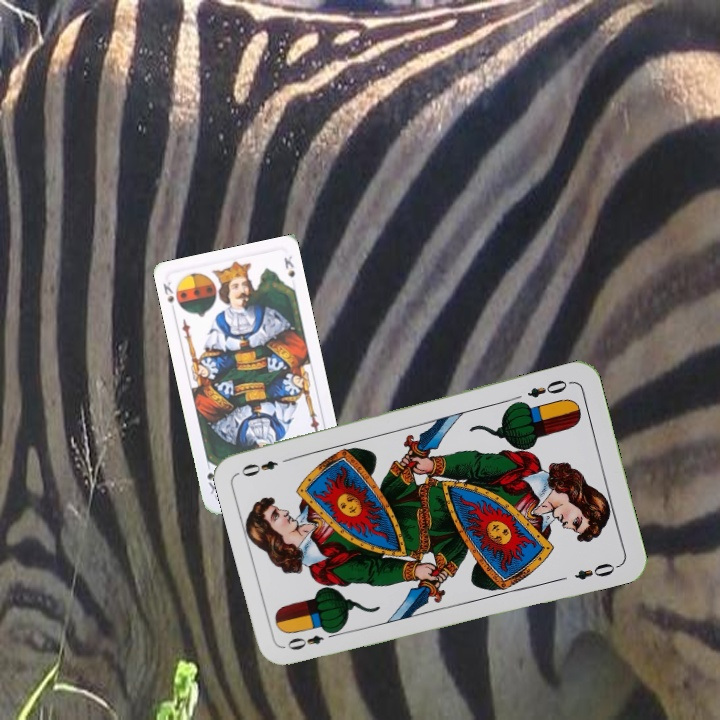EO: (283, 626, 341, 653), (523, 375, 575, 400)
SK: (159, 278, 184, 311)
